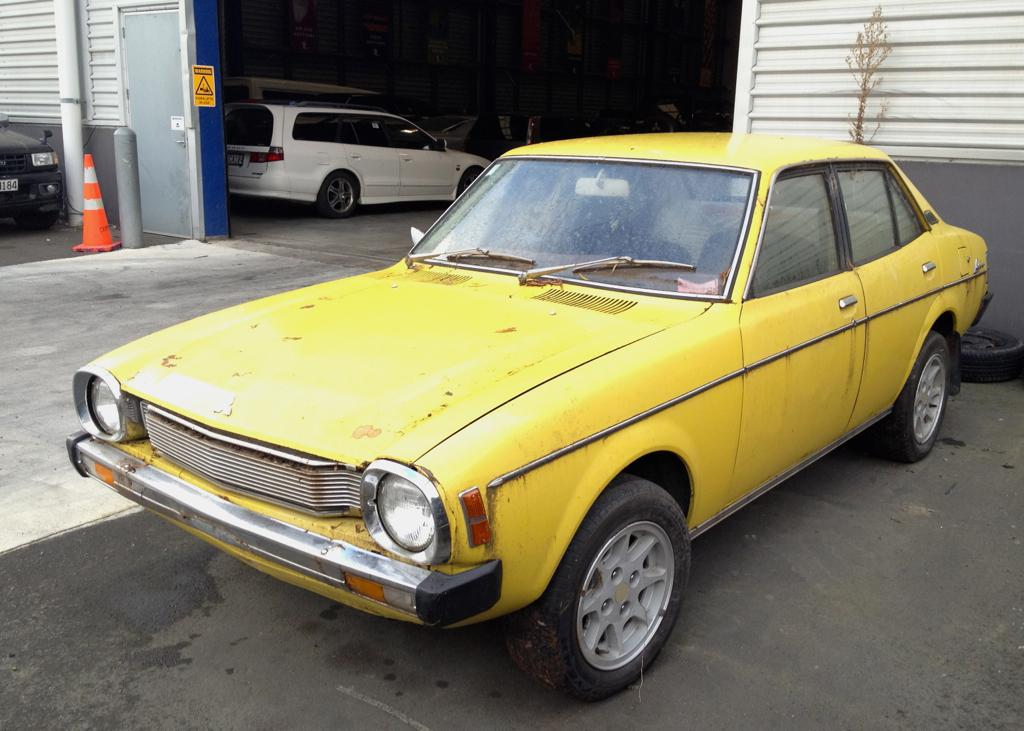bonnet-dent: (157, 270, 568, 442)
doorouter-dent: (733, 300, 870, 468), (843, 234, 958, 398)
